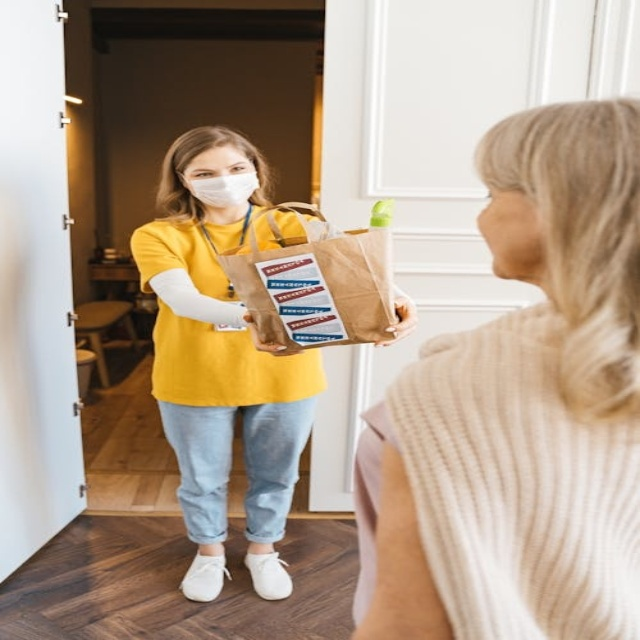Mascara: (183, 170, 260, 208)
Sin_gafas: (188, 160, 248, 178)
Sin_guantes: (357, 294, 426, 355), (238, 311, 292, 357)
